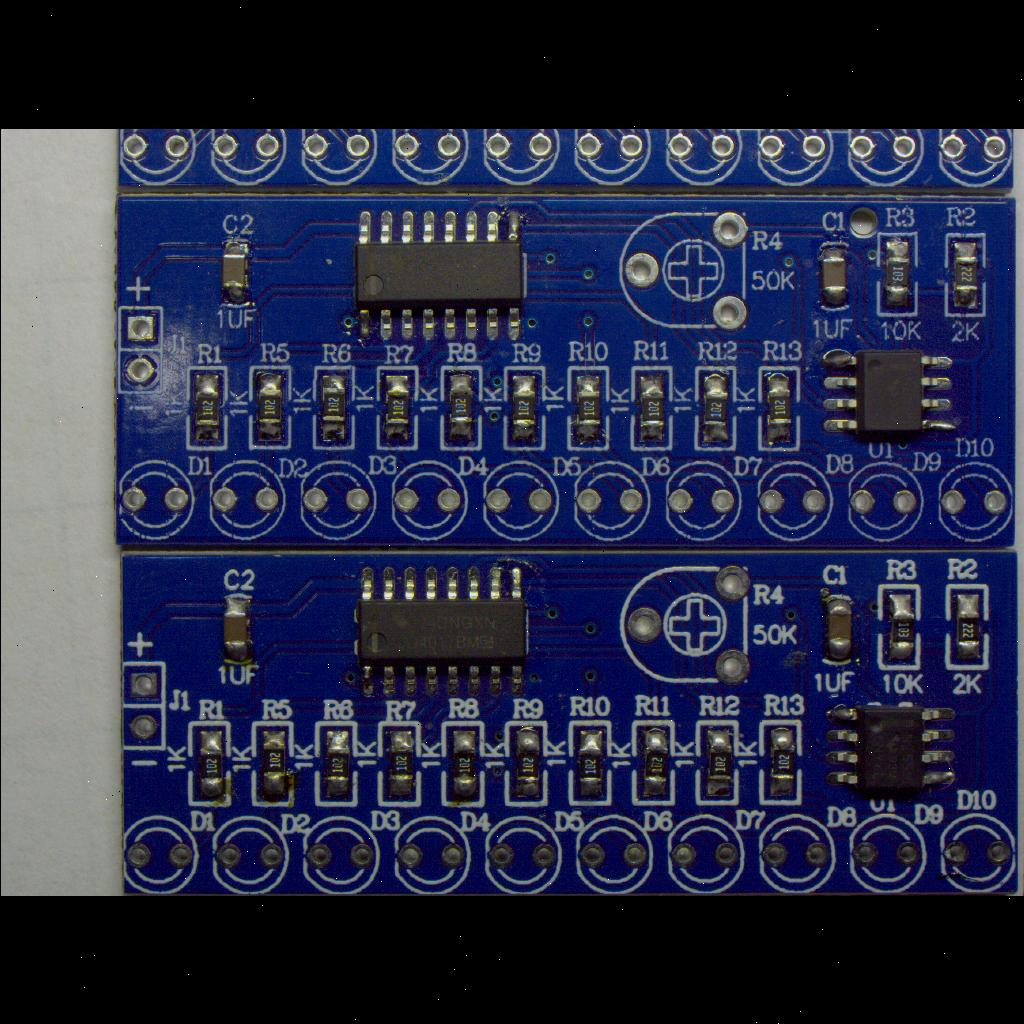OK: (340, 198, 530, 352), (345, 556, 535, 704), (811, 692, 963, 808), (812, 340, 964, 446), (372, 718, 424, 810), (184, 715, 234, 809), (754, 716, 804, 808), (690, 362, 740, 454), (752, 360, 802, 452), (940, 580, 990, 672), (500, 716, 548, 810), (311, 716, 359, 810), (248, 716, 296, 810), (562, 360, 610, 454), (873, 579, 921, 673), (244, 362, 294, 452), (628, 716, 676, 808), (872, 226, 920, 318), (691, 717, 739, 807), (564, 718, 612, 808), (438, 719, 486, 809), (436, 363, 484, 453), (500, 362, 548, 452), (941, 227, 987, 319), (627, 363, 675, 451), (310, 362, 356, 452), (372, 362, 418, 452), (210, 232, 260, 314), (816, 587, 860, 671), (216, 592, 256, 672), (814, 234, 852, 316), (189, 370, 223, 448)
